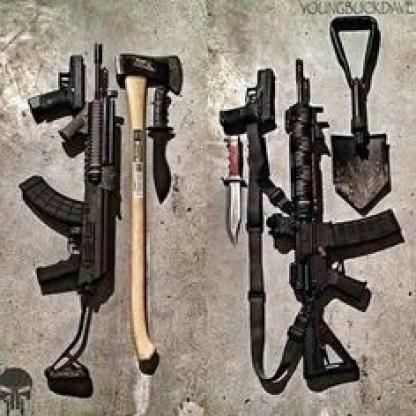Gun: (262, 56, 403, 382), (18, 41, 123, 386)
Knife: (146, 86, 176, 203), (221, 134, 249, 240)
Pistol: (26, 53, 86, 116), (219, 67, 275, 132)
